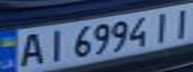4: (127, 14, 154, 47)
6: (69, 22, 97, 60)
9: (90, 20, 115, 56), (109, 18, 133, 53)
A: (12, 30, 48, 69)
I: (39, 26, 69, 63), (148, 9, 178, 43), (166, 3, 193, 38)
